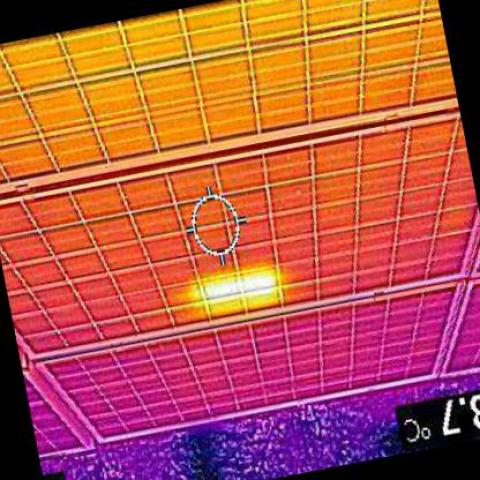fault: (201, 274, 272, 303)
